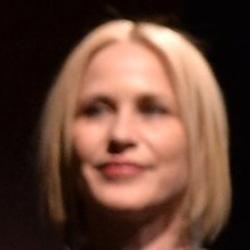face: (14, 13, 234, 245)
